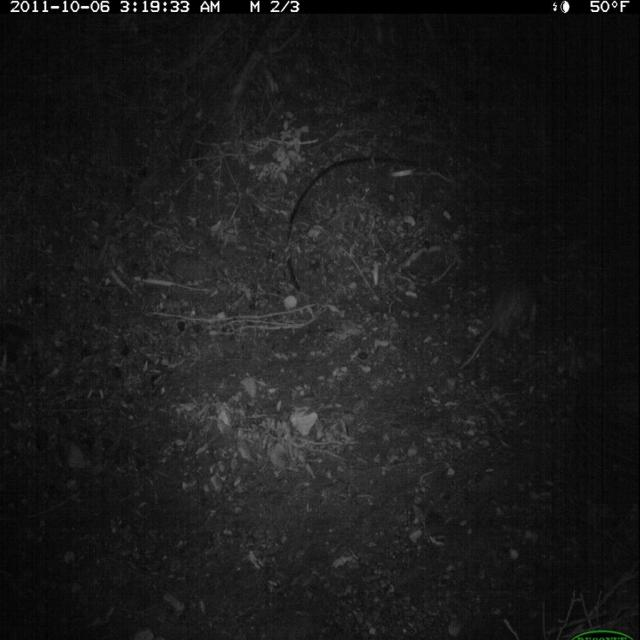opossum: (456, 258, 544, 377)
